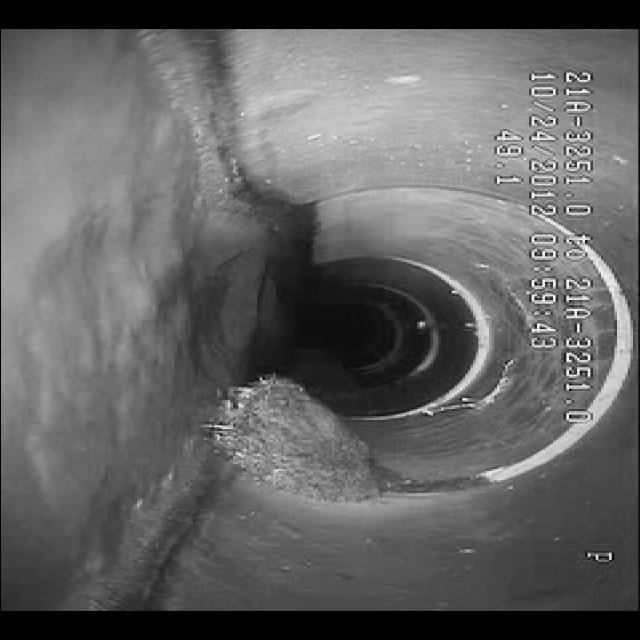Crack: (417, 270, 563, 426)
